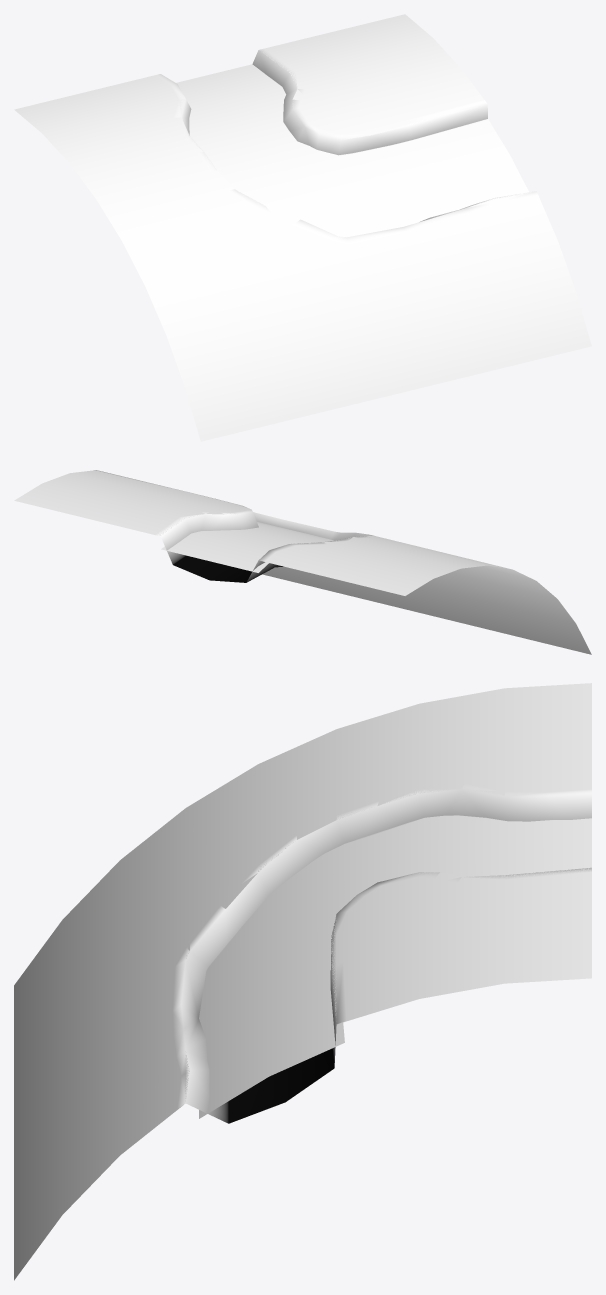
File: grd_Rse_2.dae
The picture shows the model from 3 angles, top to bottom: view 1: azimuth 30°, elevation 25°; view 2: azimuth 150°, elevation 25°; view 3: azimuth 270°, elevation 25°; orthographic projection. The views are drawn at different scales.
Visible parts, largest first — view 1: grd_Rse_2; view 2: grd_Rse_2; view 3: grd_Rse_2.
Part boxes in pixels (<box>): grd_Rse_2: <box>14,14,591,441</box>; grd_Rse_2: <box>14,470,591,654</box>; grd_Rse_2: <box>14,683,591,1280</box>.
Bounding box in the file's own units: 512 × 244 × 423.
Materials: 4 (1 with a texture image).
